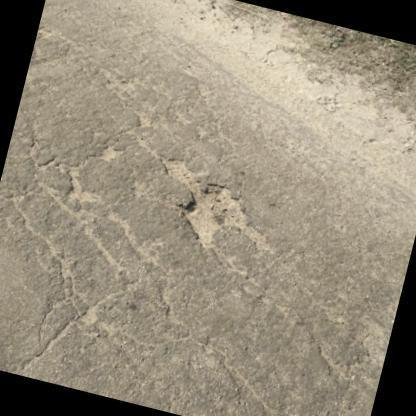pothole: (159, 157, 256, 254)
